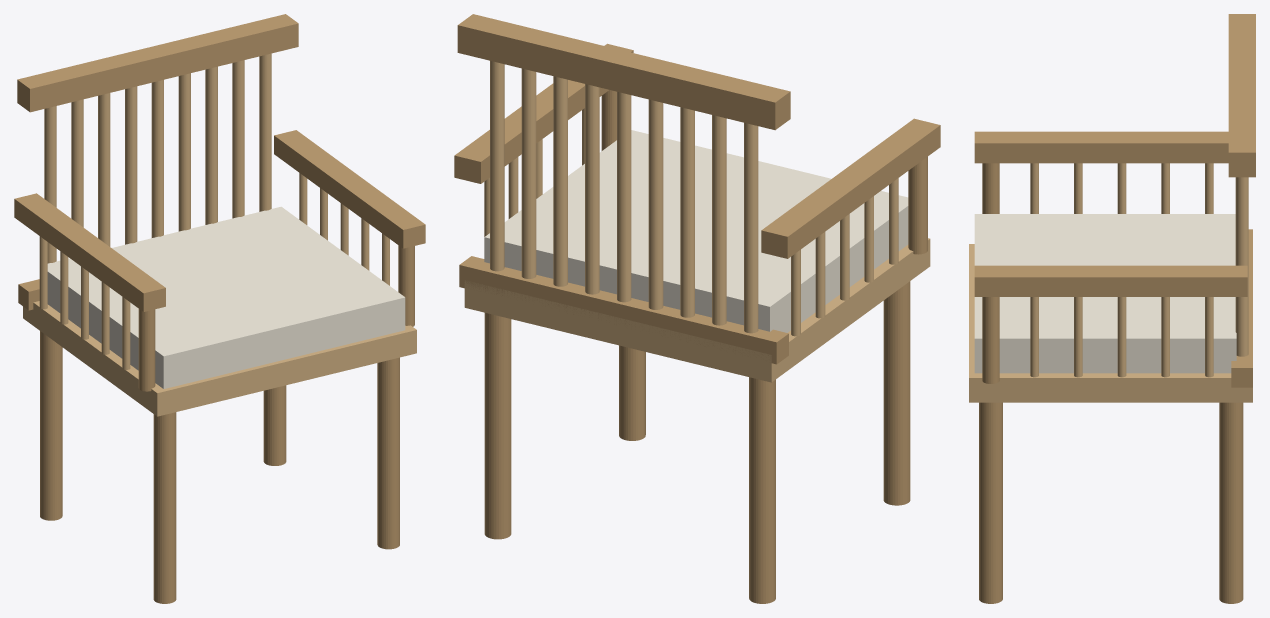
File: rattan-chair.glb
The picture shows the model from 3 angles, left to right: view 1: azimuth 30°, elevation 25°; view 2: azimuth 150°, elevation 25°; view 3: azimuth 270°, elevation 25°; orthographic projection. The views are drawn at different scales.
Visible parts, largest first — view 1: geometry_5, geometry_4, geometry_15, geometry_17, geometry_24, geometry_1, geometry_3, geometry_0, geometry_11, geometry_9, geometry_14, geometry_12 (+14 smaller); view 2: geometry_5, geometry_15, geometry_4, geometry_17, geometry_16, geometry_2, geometry_0, geometry_1, geometry_24, geometry_9, geometry_13, geometry_11 (+14 smaller); view 3: geometry_5, geometry_24, geometry_4, geometry_17, geometry_2, geometry_3, geometry_15, geometry_14, geometry_25, geometry_16, geometry_18, geometry_28 (+9 smaller).
Boxes of the visible parts, x1,y1,x2,y2 form: geometry_5: (47,206,405,388); geometry_4: (23,301,416,416); geometry_15: (17,14,298,112); geometry_17: (14,193,165,311); geometry_24: (274,130,425,248); geometry_1: (153,412,176,603); geometry_3: (377,357,399,549); geometry_0: (40,331,62,520); geometry_11: (178,73,190,231); geometry_9: (125,86,137,244); geometry_14: (259,53,271,211); geometry_12: (205,66,217,224); geometry_5: (484,130,908,332); geometry_15: (457,14,790,130); geometry_4: (464,238,930,382); geometry_17: (761,118,940,258); geometry_16: (459,256,788,364); geometry_2: (484,313,511,539); geometry_0: (749,377,775,603); geometry_1: (883,281,910,505); geometry_24: (454,43,633,183); geometry_9: (648,99,663,309); geometry_13: (521,68,536,278); geometry_11: (585,84,599,294); geometry_5: (974,214,1236,373); geometry_24: (974,265,1247,296); geometry_4: (969,244,1252,402); geometry_17: (974,131,1228,163); geometry_2: (1219,402,1243,603); geometry_3: (979,402,1002,603); geometry_15: (1228,14,1255,177); geometry_14: (1235,177,1248,356); geometry_25: (982,297,999,383); geometry_16: (1231,229,1252,387); geometry_18: (982,163,999,213); geometry_28: (1117,297,1126,377).
Bounding box in the file's own units: 0.63 × 0.925 × 0.525.
